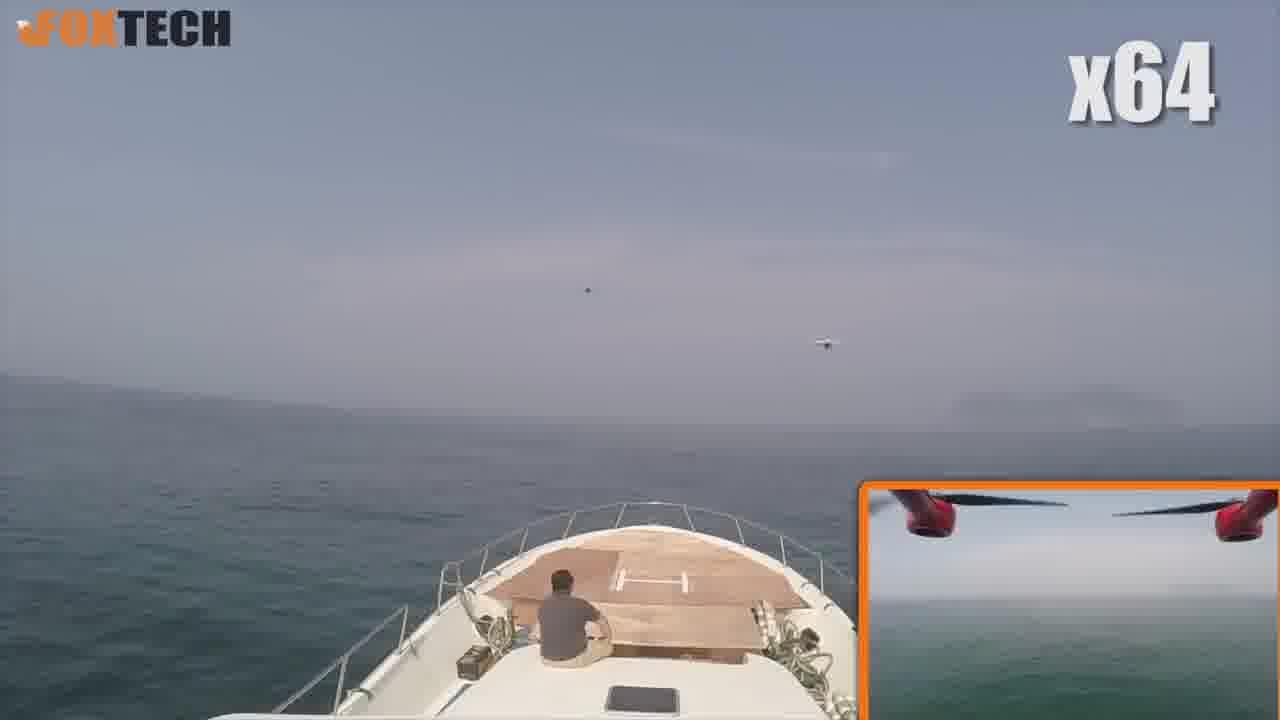drone: (807, 332, 845, 356)
